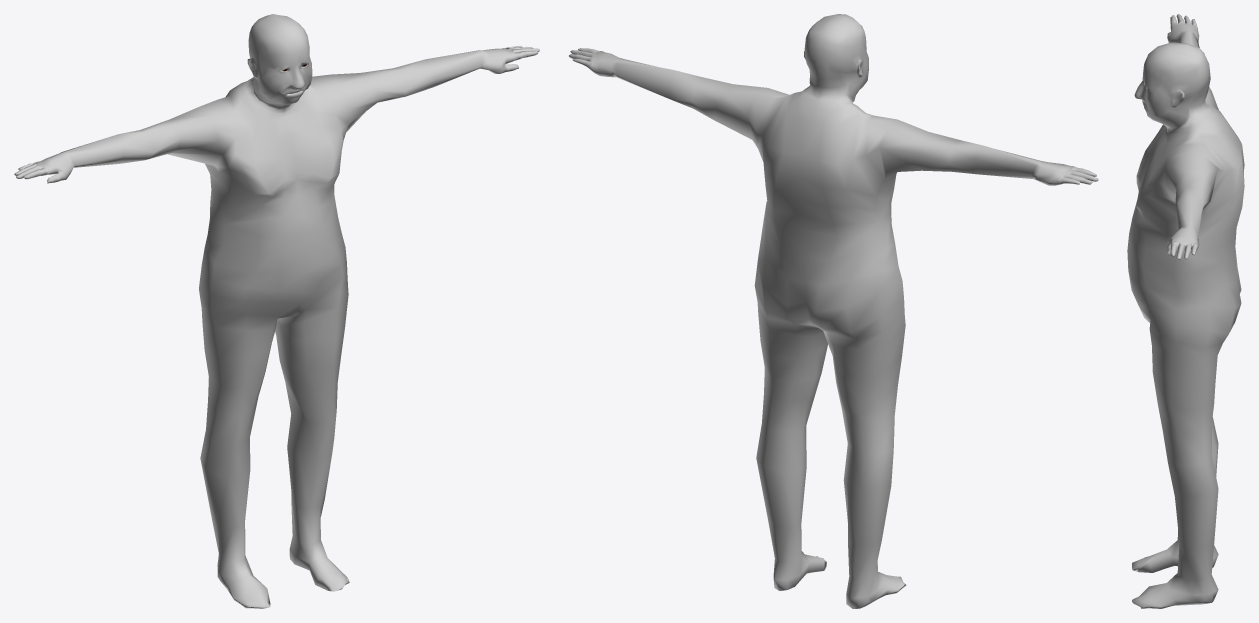
Rendered from Civil_Homem 3.fbx.
The picture shows the model from 3 angles, left to right: view 1: azimuth 30°, elevation 25°; view 2: azimuth 150°, elevation 25°; view 3: azimuth 270°, elevation 25°; orthographic projection. The views are drawn at different scales.
Visible parts, largest first — view 1: male1591Mesh; view 2: male1591Mesh; view 3: male1591Mesh.
Part boxes in pixels (<box>): male1591Mesh: <box>14,14,539,608</box>; male1591Mesh: <box>569,14,1098,608</box>; male1591Mesh: <box>1127,14,1244,608</box>.
Bounding box in the file's own units: 15.28 × 15.77 × 3.09.
